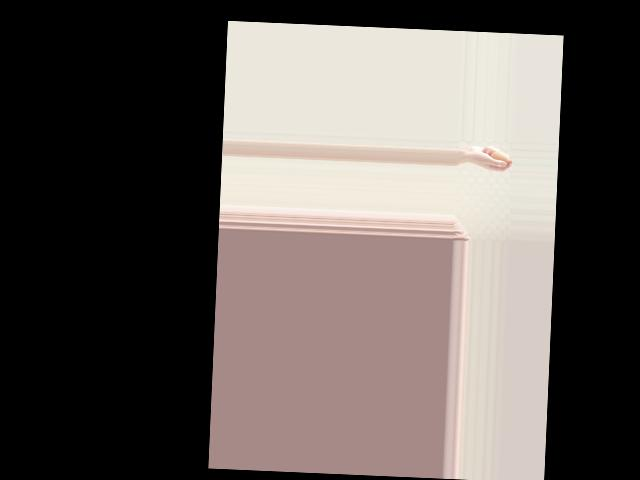egg: (489, 149, 509, 166)
